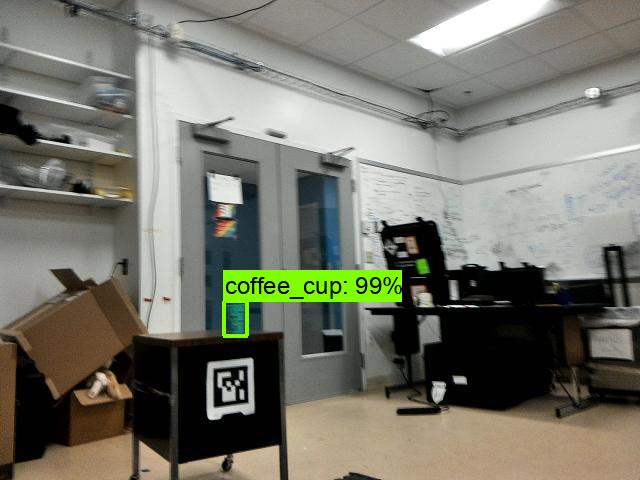coffee_cup: (223, 302, 247, 335)
